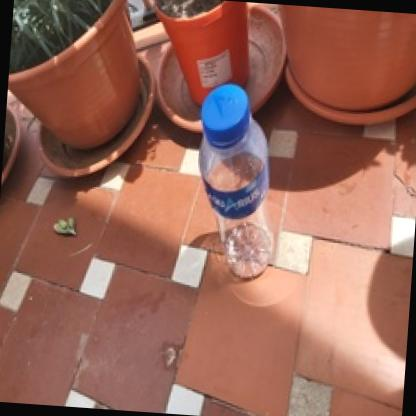plastic_bottles: (187, 83, 283, 291)
